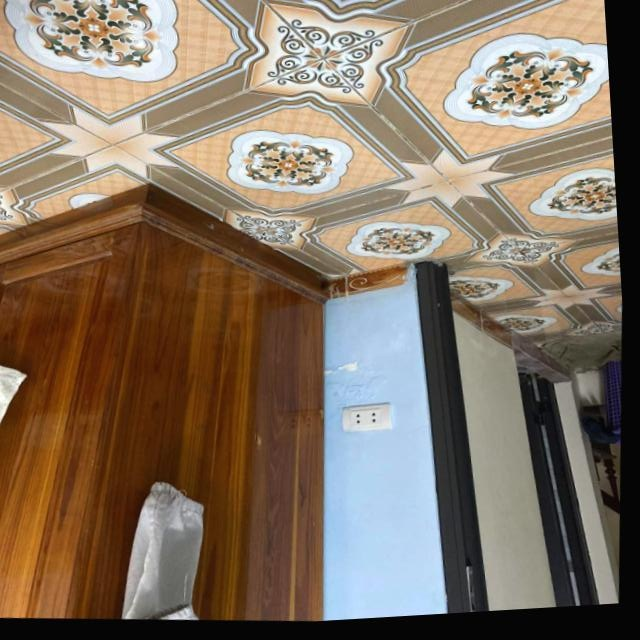outlet: (338, 401, 393, 437)
